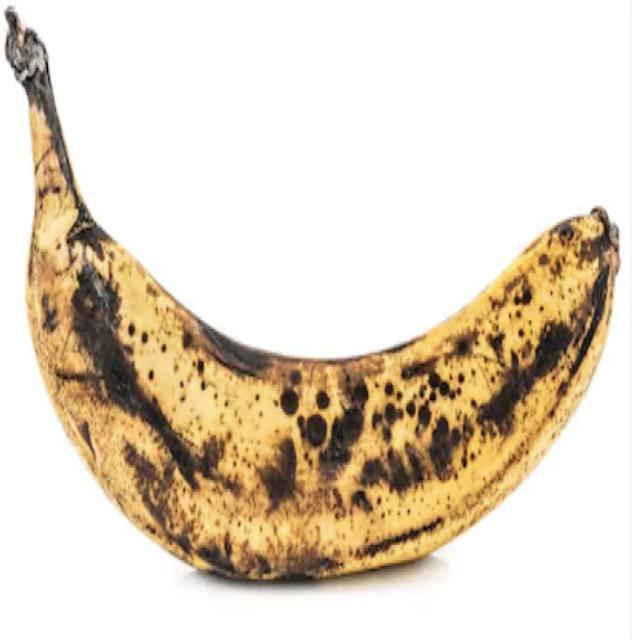rotten-banana: (23, 96, 622, 581)
